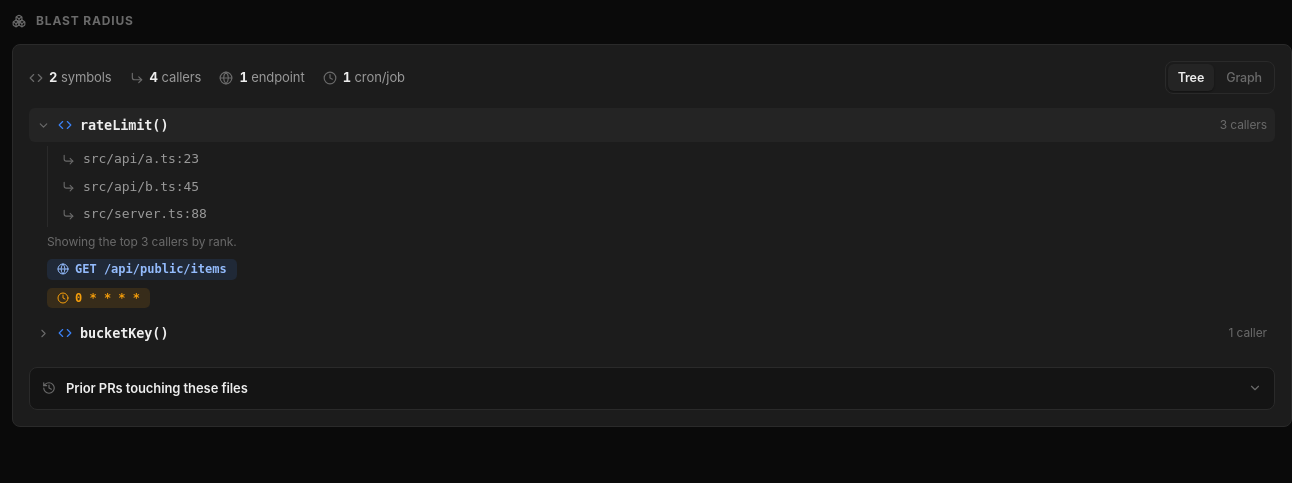
Test case: BlastRadiusCard — prior PRs › explains why prior PRs are unavailable instead of showing an empty list
Click the button "Prior PRs touching these files" at point(157, 388), box x1=30 y1=368 x2=1274 y2=409
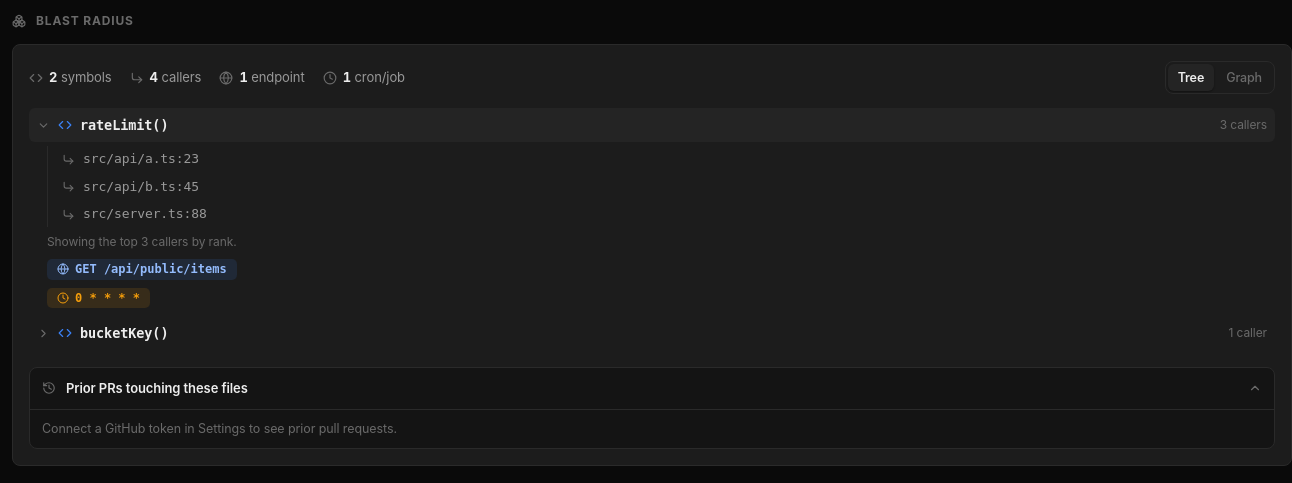
Result: the text "Connect a GitHub token in Settings to see prior pull requests." is shown at x1=30 y1=409 x2=1274 y2=448
